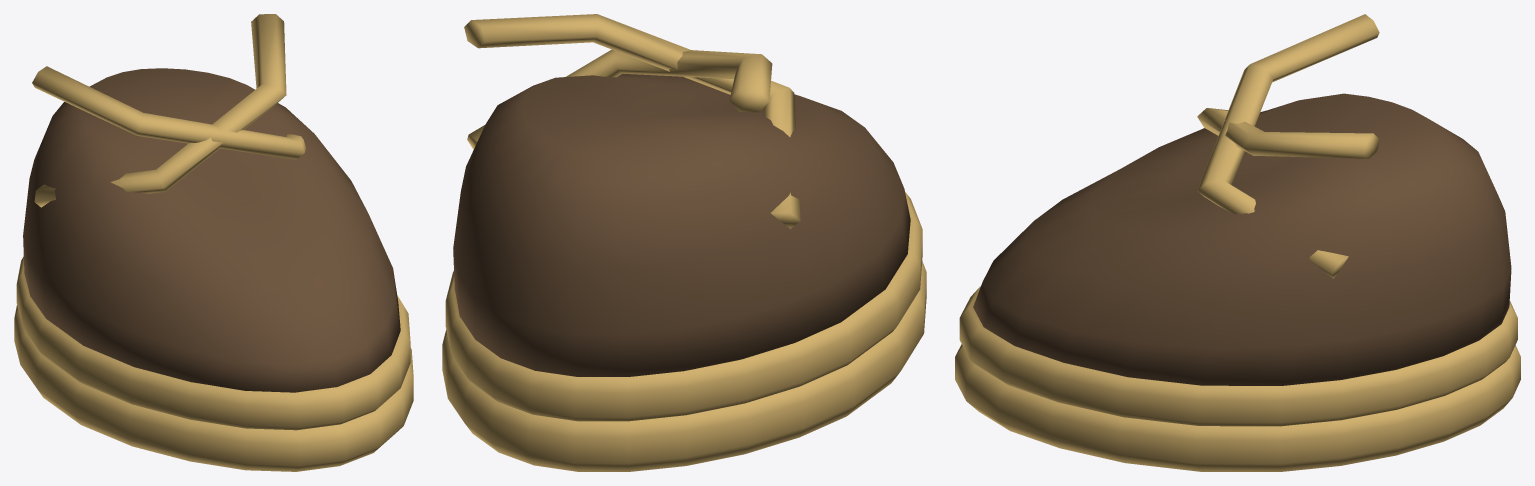
File: calzado_alpargatas.glb
The picture shows the model from 3 angles, left to right: view 1: azimuth 30°, elevation 25°; view 2: azimuth 150°, elevation 25°; view 3: azimuth 270°, elevation 25°; orthographic projection. The views are drawn at different scales.
Visible parts, largest first — view 1: pieza; view 2: pieza; view 3: pieza.
Boxes of the visible parts, x1,y1,x2,y2 form: pieza: (14, 14, 413, 471); pieza: (442, 14, 926, 471); pieza: (955, 14, 1520, 471).
Bounding box in the file's own units: 0.2657 × 0.2316 × 0.378.
